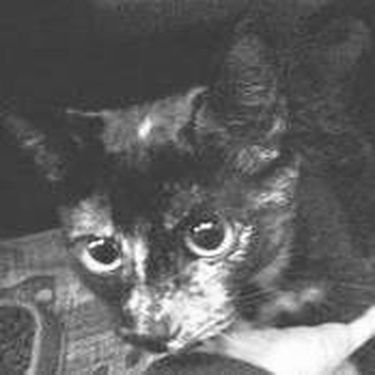cat: (5, 17, 362, 361)
